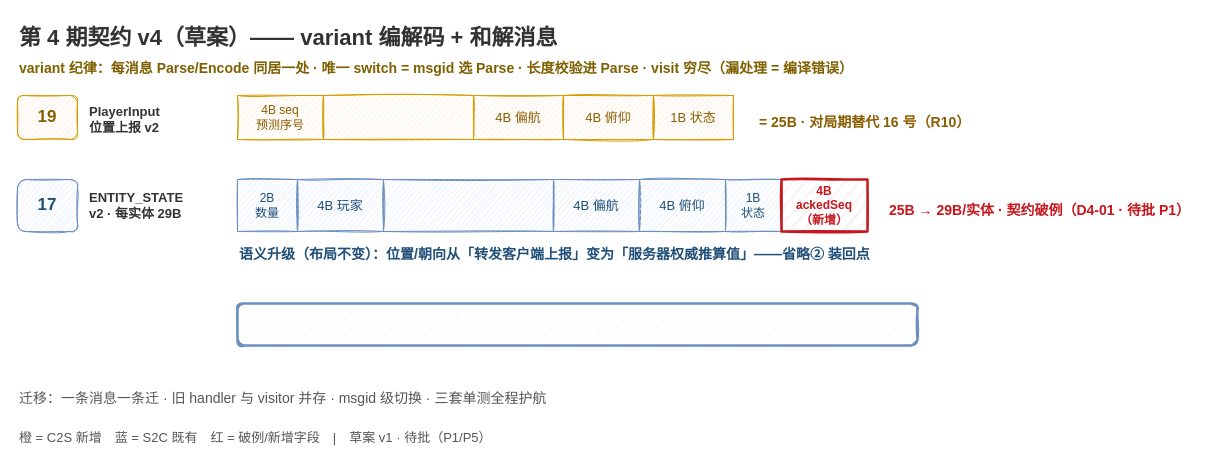
Image size: 1208x464. Some labels were removed from this diagram. The shapes that lost their labels are listed below. From the top down, each one's centre as x and y in pixels, then its label:
At (x=398, y=117): "12B 位置".
At (x=468, y=205): "12B 位置 （= 服务器权威位）".
At (x=577, y=324): "R10：对局内 16 号停用（收到即丢弃）—— 19 号替代；1~18 其余布局一个字节不动".
